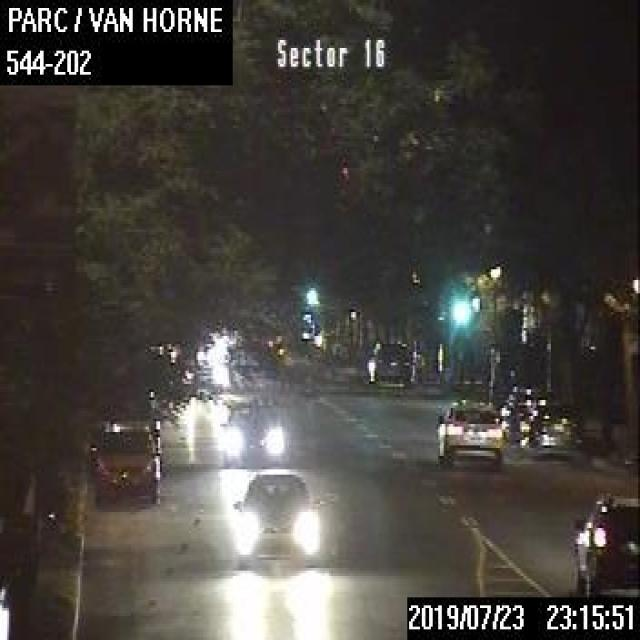vehicle: (232, 472, 324, 566), (568, 491, 638, 592), (87, 422, 163, 502), (434, 397, 505, 466), (218, 398, 288, 467), (497, 382, 551, 442), (526, 402, 582, 454), (366, 333, 412, 384)
